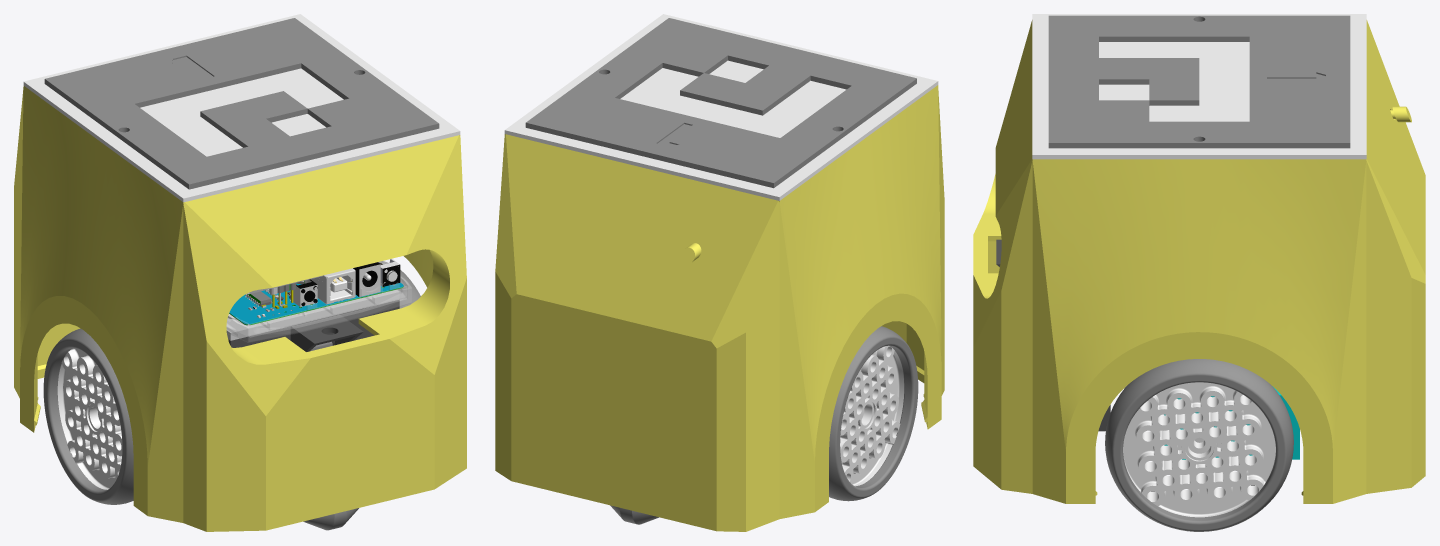
Rendered from robot2.glb.
3 renders of one model, left to right at view 1: azimuth 30°, elevation 25°; view 2: azimuth 150°, elevation 25°; view 3: azimuth 270°, elevation 25°, orthographic. The views are drawn at different scales.
Visible parts, largest first — view 1: cover2-1, arucoMarker-1, AurigaBoard-1, Plastic Timing Pulley 90T For Motor.step-1, Tire 90T B.step-2, Frame-1, Base_raspi-1, caster wheel-2, Tire 90T B.step-1; view 2: cover2-1, arucoMarker-1, Plastic Timing Pulley 90T For Motor.step-1, Tire 90T B.step-2; view 3: cover2-1, arucoMarker-1, Plastic Timing Pulley 90T For Motor.step-2, Tire 90T B.step-1, motor-1.
Boxes of the visible parts, bbox=[...] form: cover2-1: bbox=[14, 86, 466, 531]; arucoMarker-1: bbox=[23, 14, 460, 202]; AurigaBoard-1: bbox=[226, 258, 411, 342]; Plastic Timing Pulley 90T For Motor.step-1: bbox=[57, 348, 122, 489]; Tire 90T B.step-2: bbox=[43, 328, 133, 504]; Frame-1: bbox=[228, 300, 399, 351]; Base_raspi-1: bbox=[226, 287, 399, 340]; caster wheel-2: bbox=[303, 508, 358, 530]; Tire 90T B.step-1: bbox=[378, 261, 420, 308]; cover2-1: bbox=[495, 85, 944, 531]; arucoMarker-1: bbox=[504, 14, 938, 200]; Plastic Timing Pulley 90T For Motor.step-1: bbox=[840, 345, 904, 486]; Tire 90T B.step-2: bbox=[829, 326, 918, 501]; cover2-1: bbox=[973, 20, 1425, 503]; arucoMarker-1: bbox=[1032, 14, 1366, 159]; Plastic Timing Pulley 90T For Motor.step-2: bbox=[1123, 382, 1275, 517]; Tire 90T B.step-1: bbox=[1105, 359, 1293, 531]; motor-1: bbox=[1164, 386, 1299, 459].
Size of the model in its own units: 0.129 by 0.1415 by 0.153.
